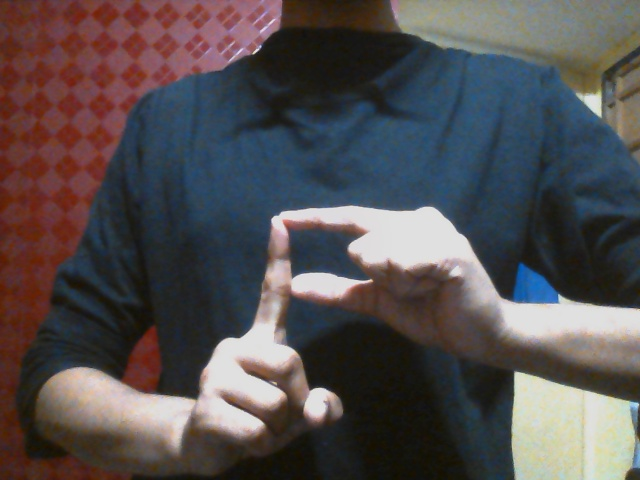P: (193, 205, 491, 466)
